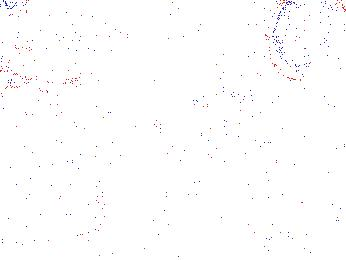moon jellyfish: (1, 8, 86, 85), (266, 1, 346, 81), (171, 93, 258, 159), (17, 1, 121, 49)
